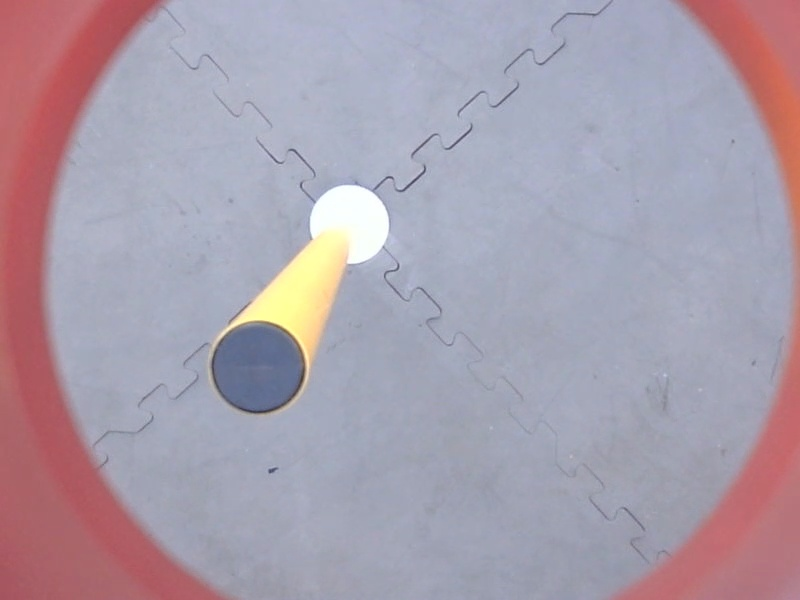tip: (204, 313, 317, 423)
